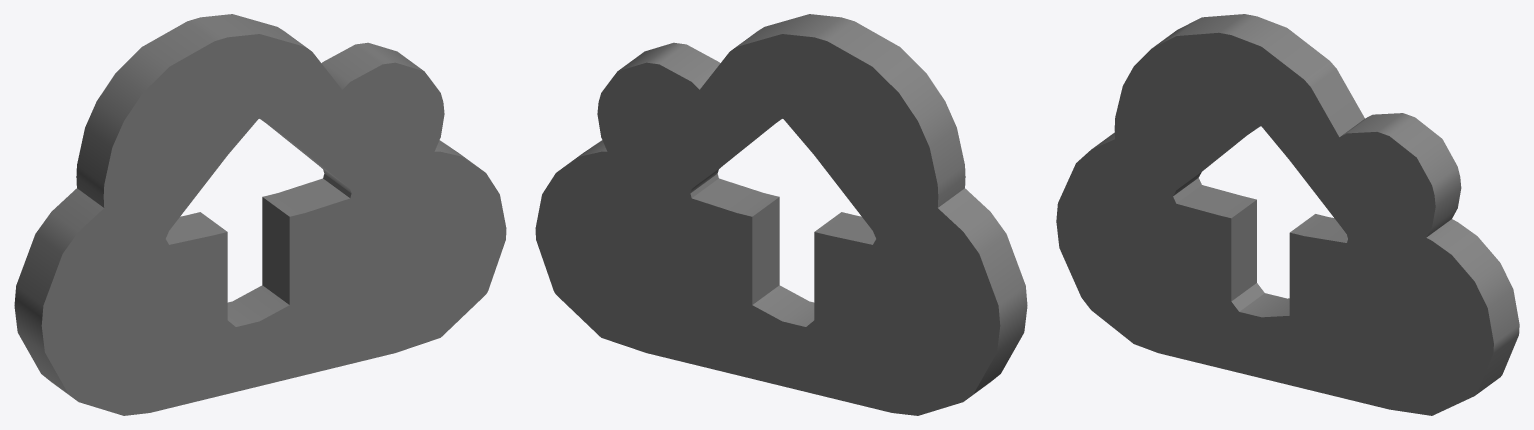
The model's file is fa-cloud-upload.obj.
The picture shows the model from 3 angles, left to right: view 1: azimuth 30°, elevation 25°; view 2: azimuth 150°, elevation 25°; view 3: azimuth 330°, elevation 25°; orthographic projection. The views are drawn at different scales.
Size of the model in its own units: 1.13 by 0.8315 by 0.1152.
1 material, 1 textured.
